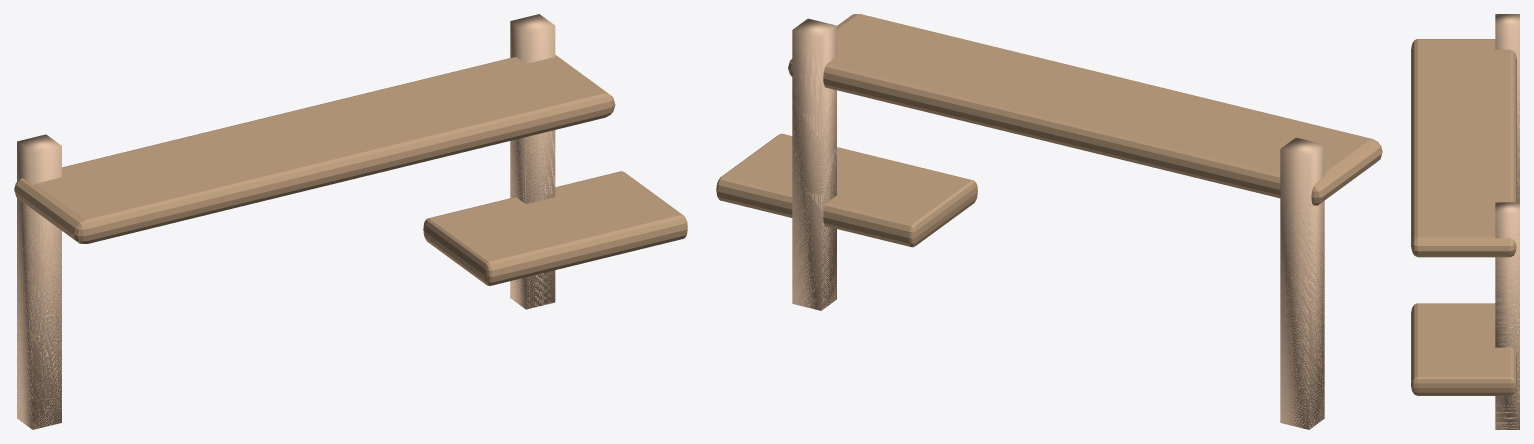
The model's file is Invernadero Solo .fbx.
The picture shows the model from 3 angles, left to right: view 1: azimuth 30°, elevation 25°; view 2: azimuth 150°, elevation 25°; view 3: azimuth 270°, elevation 25°; orthographic projection. The views are drawn at different scales.
Visible parts, largest first — view 1: Mesa, Mesa.002, Pata.002, Pata.004; view 2: Mesa, Mesa.002, Pata.002, Pata.004; view 3: Mesa, Mesa.002, Pata.004, Pata.002.
Boxes of the visible parts, <box> form: Mesa: <box>14,55,615,243</box>; Mesa.002: <box>423,171,687,285</box>; Pata.002: <box>17,134,61,429</box>; Pata.004: <box>510,14,555,309</box>; Mesa: <box>788,14,1382,205</box>; Mesa.002: <box>716,133,977,247</box>; Pata.002: <box>1280,137,1324,429</box>; Pata.004: <box>792,18,836,310</box>; Mesa: <box>1411,39,1516,257</box>; Mesa.002: <box>1411,303,1516,395</box>; Pata.004: <box>1495,202,1519,429</box>; Pata.002: <box>1495,14,1519,202</box>.
Bounding box in the file's own units: 238 × 103 × 46.89.
